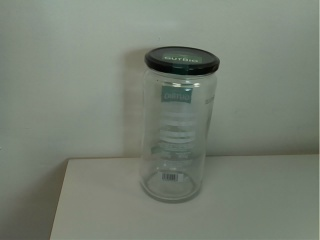pote cristal: (137, 44, 222, 209)
